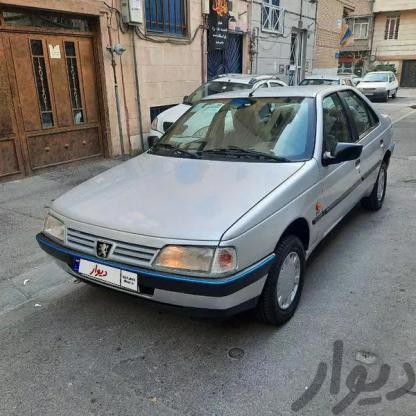Car: (75, 82, 405, 331), (165, 78, 266, 148), (359, 64, 402, 105)
